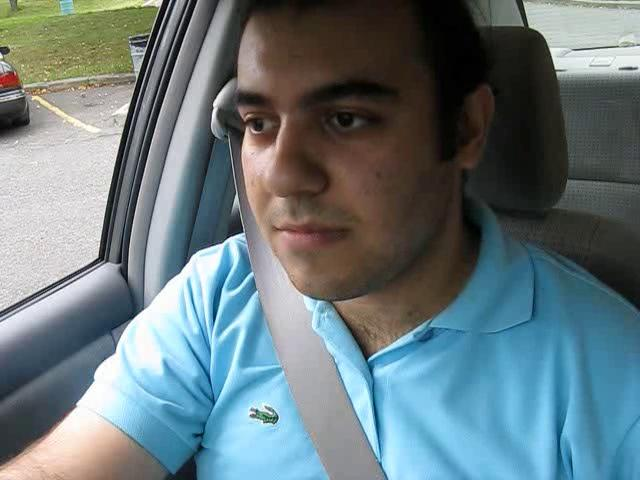no_yawn: (251, 202, 368, 265)
open_eyeL: (225, 98, 285, 150)
open_eyeR: (306, 89, 405, 149)
